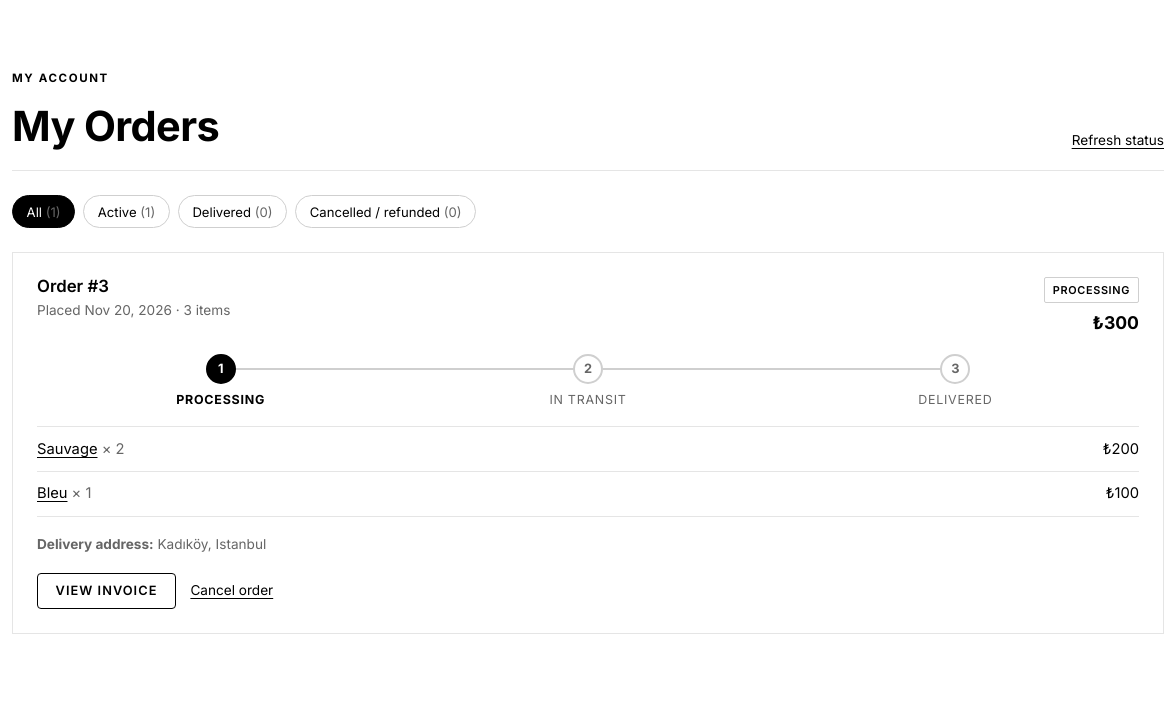
Test case: OrdersPage › cancels after confirmation and shows the new status
This screenshot has width=1176, height=720.
Click the button "Cancel order": click(232, 591) top-left (190, 580), bottom-right (273, 602)
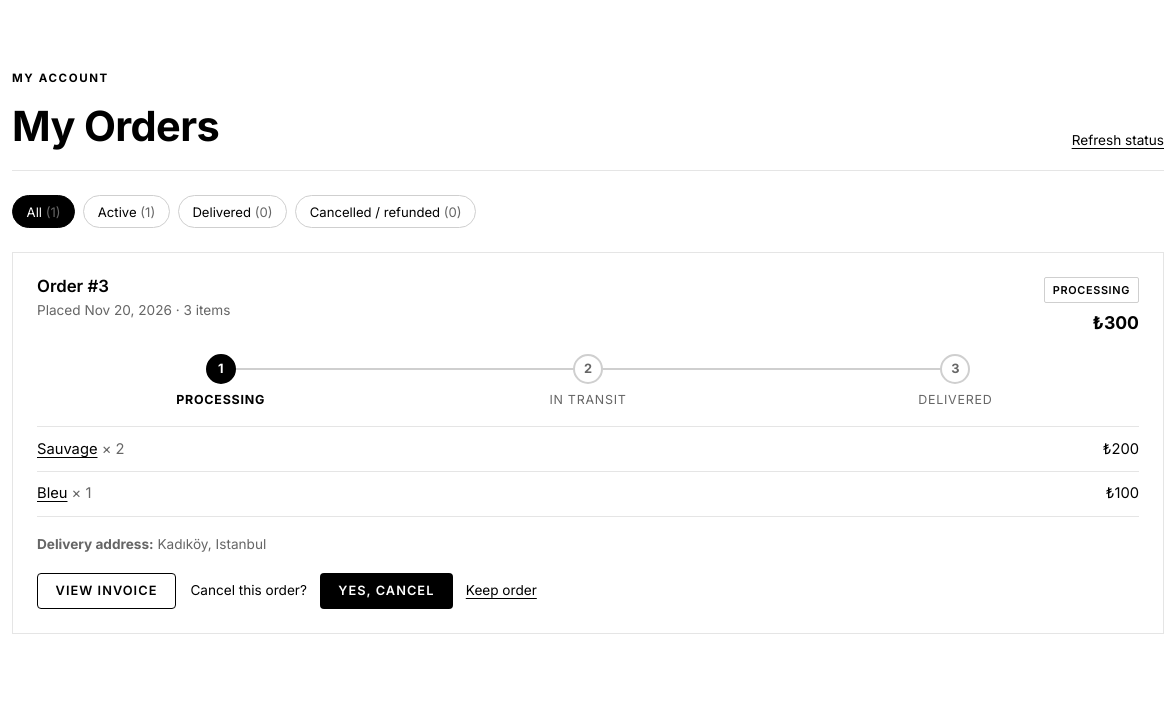
Click the button "Yes, cancel": click(386, 591) top-left (320, 573), bottom-right (453, 609)
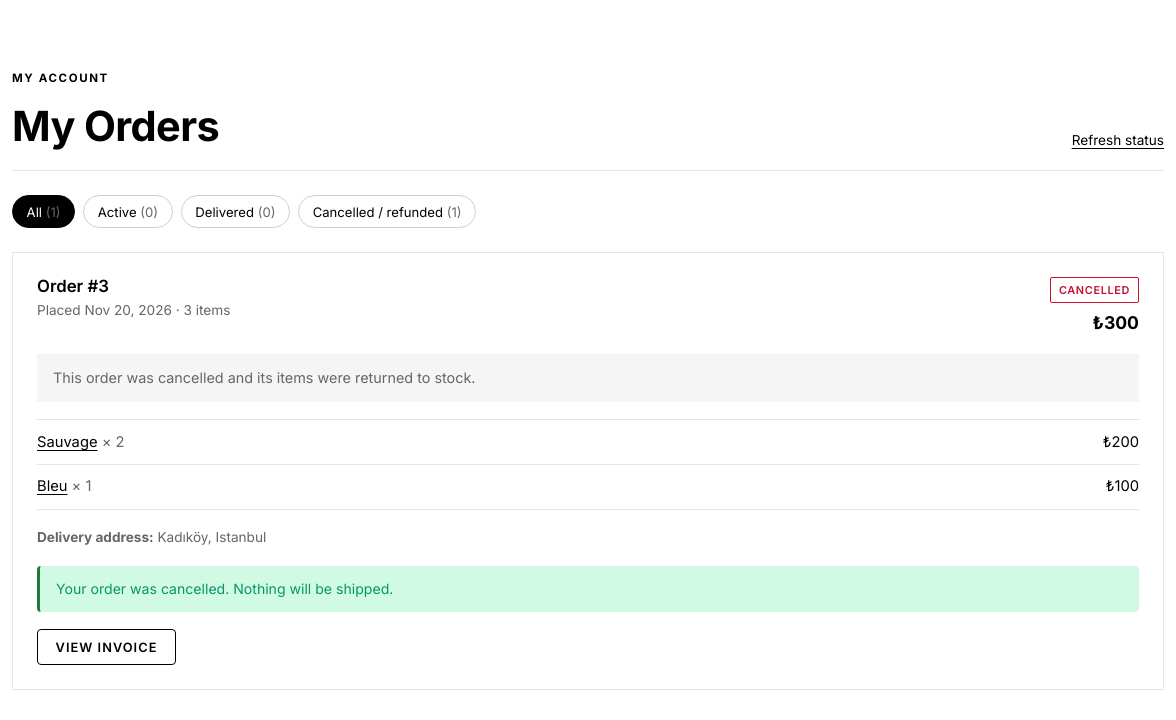
Expected: the button "Cancel order" is not shown
Expected: the text "Your order was cancelled. Nothing will be shipped." is shown, top-left (37, 566), bottom-right (1139, 612)
Expected: the text "returned to stock" is shown, top-left (53, 369), bottom-right (476, 386)
